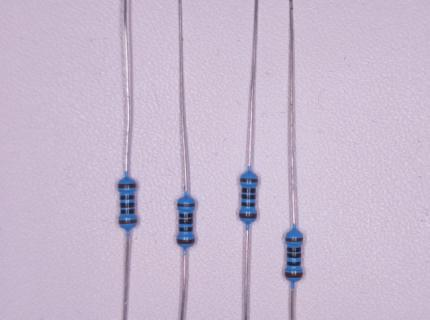Black band: (120, 194, 135, 200), (120, 202, 135, 208), (179, 218, 193, 224), (242, 187, 256, 193), (241, 201, 255, 207), (121, 209, 135, 214), (179, 213, 193, 218), (179, 227, 193, 232), (241, 194, 255, 199), (287, 247, 301, 252), (287, 253, 301, 258), (287, 261, 301, 266)
Brown band: (177, 238, 195, 245), (239, 212, 258, 218), (284, 272, 303, 278), (285, 236, 303, 242), (118, 183, 137, 188), (118, 219, 137, 224), (177, 202, 196, 207), (240, 178, 259, 182)
